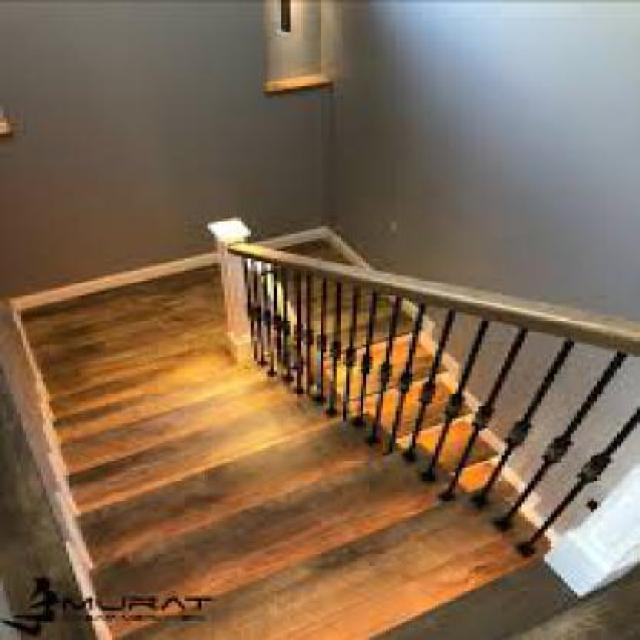stair: (5, 227, 569, 636)
